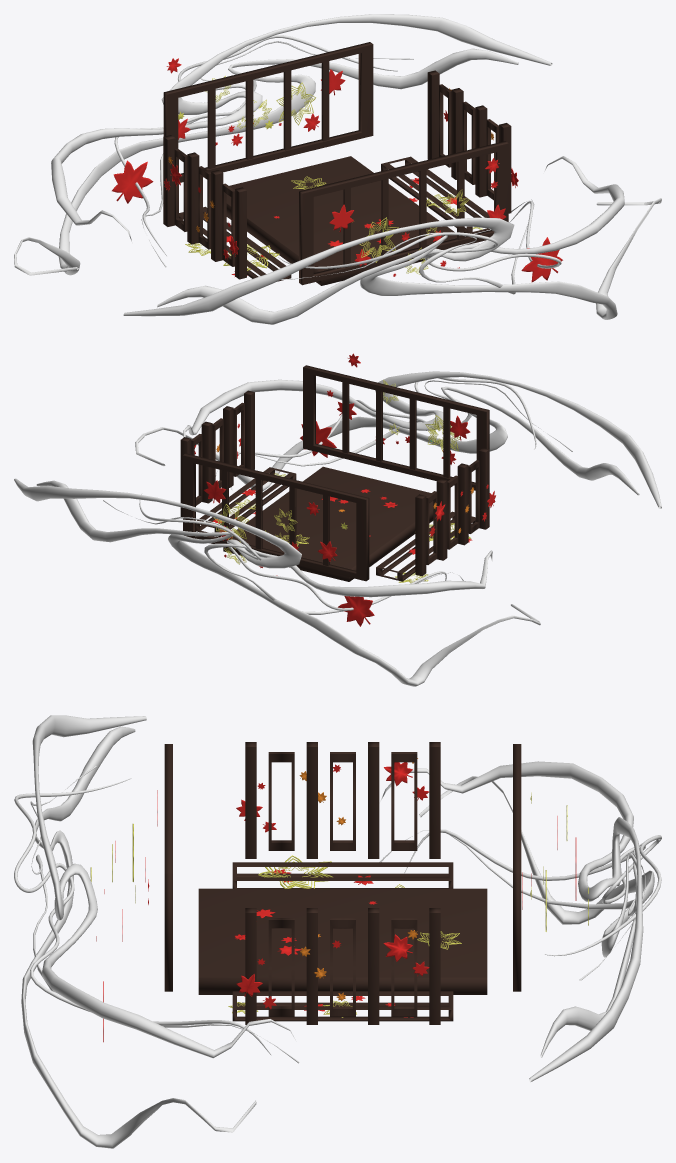
File: vrmliveviewreもみじ.glb
3 renders of one model, top to bottom at view 1: azimuth 30°, elevation 25°; view 2: azimuth 150°, elevation 25°; view 3: azimuth 270°, elevation 25°, orthographic. The views are drawn at different scales.
Parts seen in each view (by area): view 1: NURBSカーブ.006; view 2: NURBSカーブ.006; view 3: NURBSカーブ.006.
Part boxes in pixels (box(x1,y1,x2,y2)): NURBSカーブ.006: box(14, 14, 661, 324); NURBSカーブ.006: box(14, 353, 661, 686); NURBSカーブ.006: box(14, 715, 661, 1148).
Bounding box in the file's own units: 66.69 × 20.23 × 50.21.
